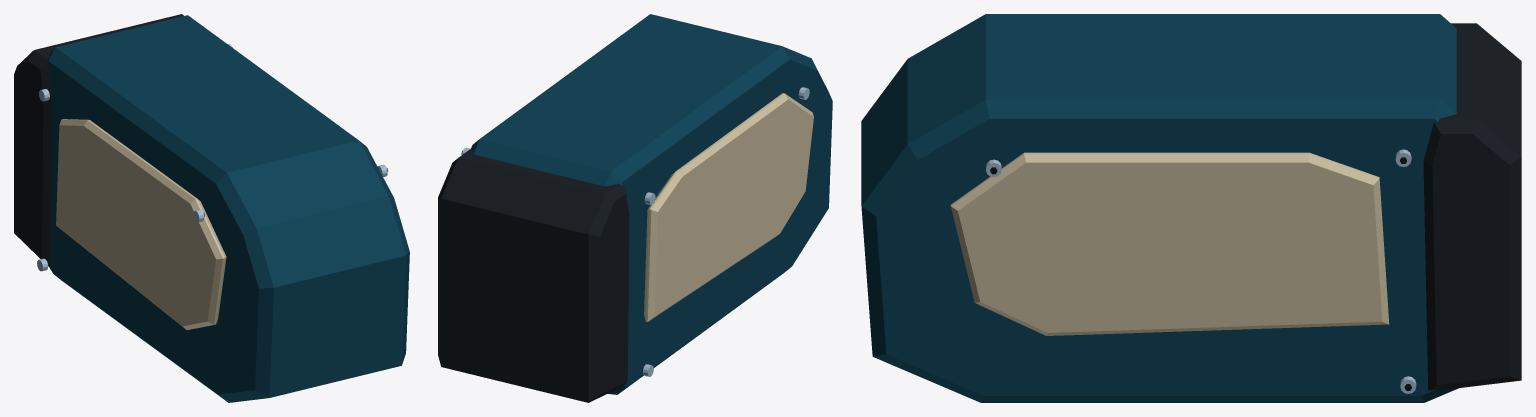
The model's file is NailgunBlue_Normal_Body.obj.
3 renders of one model, left to right at view 1: azimuth 30°, elevation 25°; view 2: azimuth 150°, elevation 25°; view 3: azimuth 270°, elevation 25°, orthographic. The views are drawn at different scales.
Parts seen in each view (by area): view 1: PetrolBlue, Ivory, FrameBlack, Steel; view 2: PetrolBlue, FrameBlack, Ivory, Steel; view 3: PetrolBlue, Ivory, FrameBlack, Steel.
Boxes of the visible parts, left/top/right/bottom form: PetrolBlue: left=47, top=15, right=409, bottom=402; Ivory: left=56, top=119, right=226, bottom=330; FrameBlack: left=14, top=14, right=183, bottom=267; Steel: left=37, top=44, right=387, bottom=271; PetrolBlue: left=471, top=14, right=832, bottom=394; FrameBlack: left=438, top=148, right=629, bottom=402; Ivory: left=644, top=93, right=813, bottom=321; Steel: left=462, top=87, right=809, bottom=376; PetrolBlue: left=861, top=14, right=1458, bottom=402; Ivory: left=950, top=152, right=1389, bottom=335; FrameBlack: left=1423, top=23, right=1521, bottom=390; Steel: left=986, top=149, right=1416, bottom=393.
Size of the model in its own units: 0.183 by 0.21 by 0.414.
